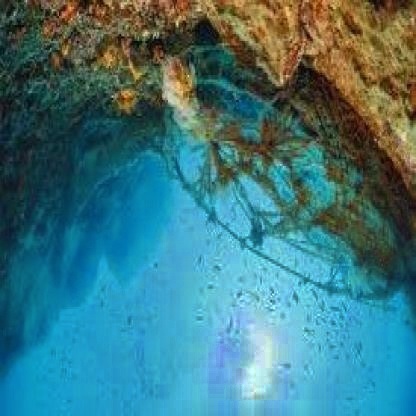net: (159, 35, 416, 309)
